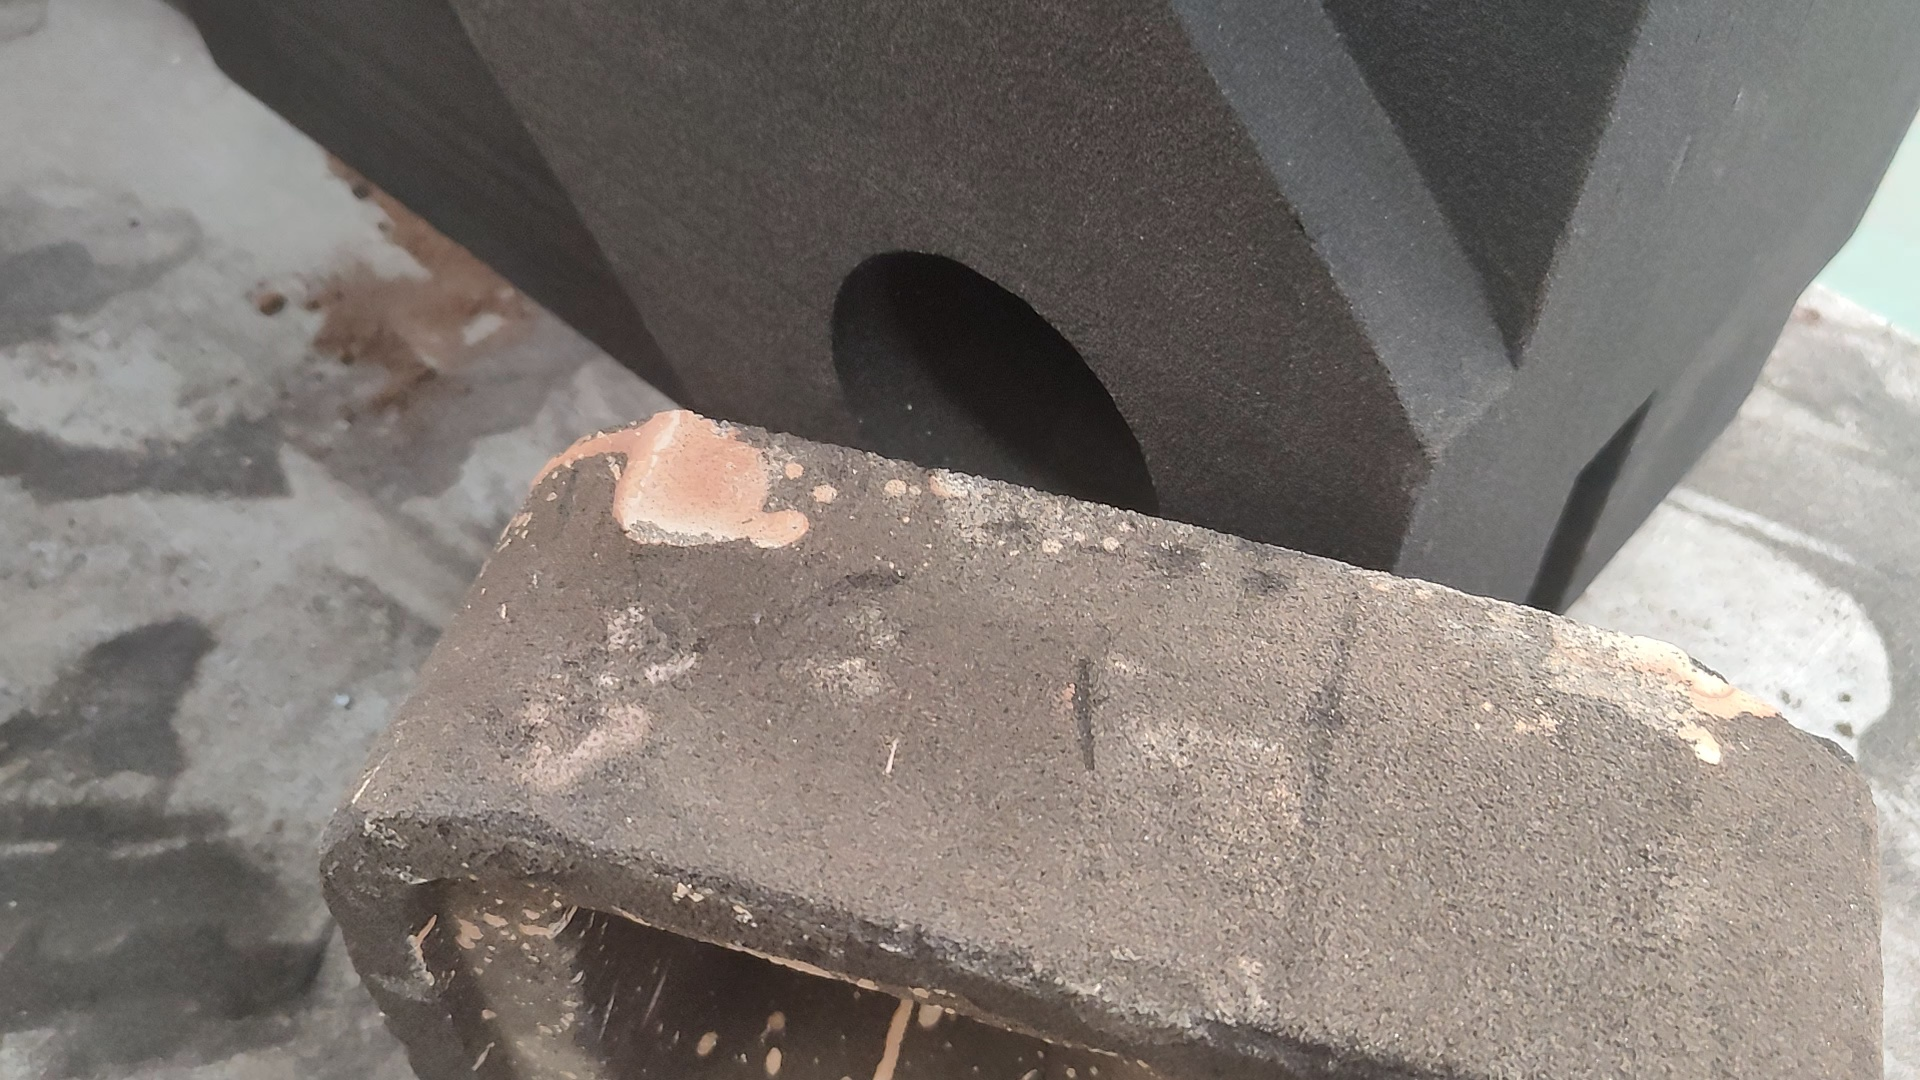pouring hole: (828, 248, 1163, 575)
